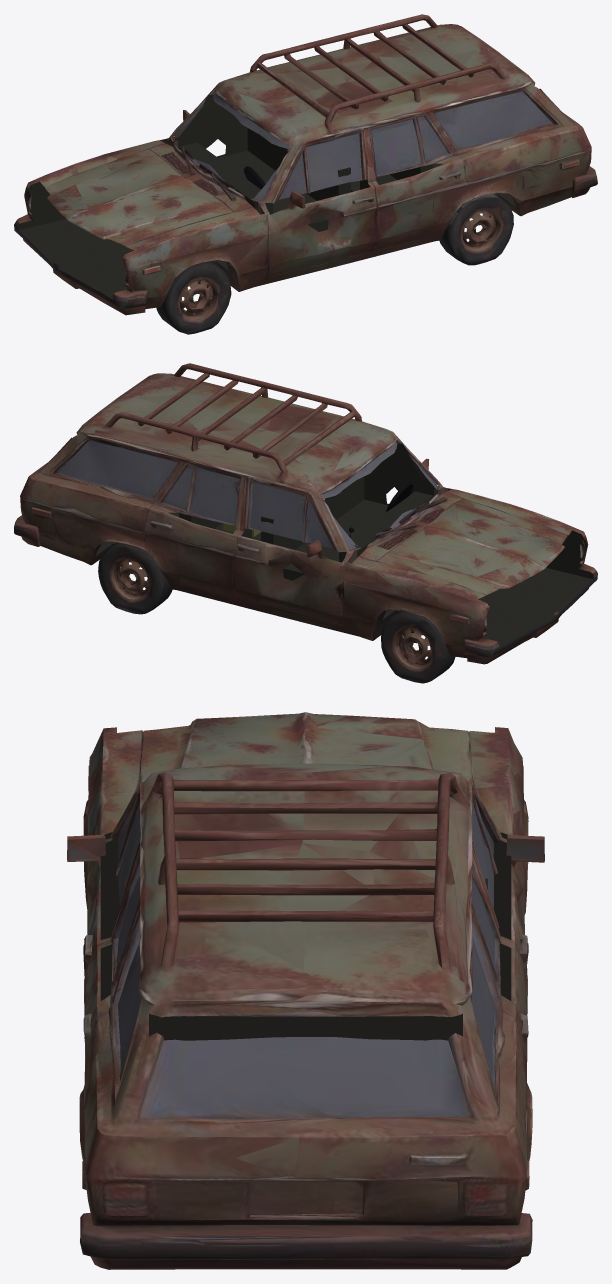
The model's file is car_station_wagon.glb.
3 views of the same model, one above another, from view 1: azimuth 30°, elevation 25°; view 2: azimuth 150°, elevation 25°; view 3: azimuth 270°, elevation 25° (orthographic). The views are drawn at different scales.
Parts seen in each view (by area): view 1: body, hood, door_front_1, door_front_2, wheel_1, wheel_3, tailgate, door_back_1; view 2: body, hood, door_back_1, door_back_2, wheel_4, wheel_2, tailgate, door_front_1; view 3: body, tailgate, hood, door_front_1, door_back_1, door_back_2, door_front_2.
Boxes of the visible parts, <box> form: body: <box>14,14,597,315</box>; hood: <box>37,143,250,252</box>; door_front_1: <box>254,129,378,276</box>; door_front_2: <box>365,108,468,249</box>; wheel_1: <box>156,261,231,334</box>; wheel_3: <box>439,194,513,265</box>; tailgate: <box>539,88,596,183</box>; door_back_1: <box>163,85,247,157</box>; body: <box>14,363,597,664</box>; hood: <box>361,492,573,601</box>; door_back_1: <box>233,479,357,625</box>; door_back_2: <box>143,457,246,598</box>; wheel_4: <box>98,542,172,614</box>; wheel_2: <box>381,610,455,683</box>; tailgate: <box>14,437,71,532</box>; door_front_1: <box>364,433,448,505</box>; body: <box>79,727,532,1269</box>; tailgate: <box>80,1032,531,1240</box>; hood: <box>93,712,519,835</box>; door_front_1: <box>67,784,140,978</box>; door_back_1: <box>472,784,544,978</box>; door_back_2: <box>471,846,531,1094</box>; door_front_2: <box>80,849,140,1095</box>.
Size of the model in its own units: 4.8 by 1.71 by 2.02.
7 materials, 4 textured.
